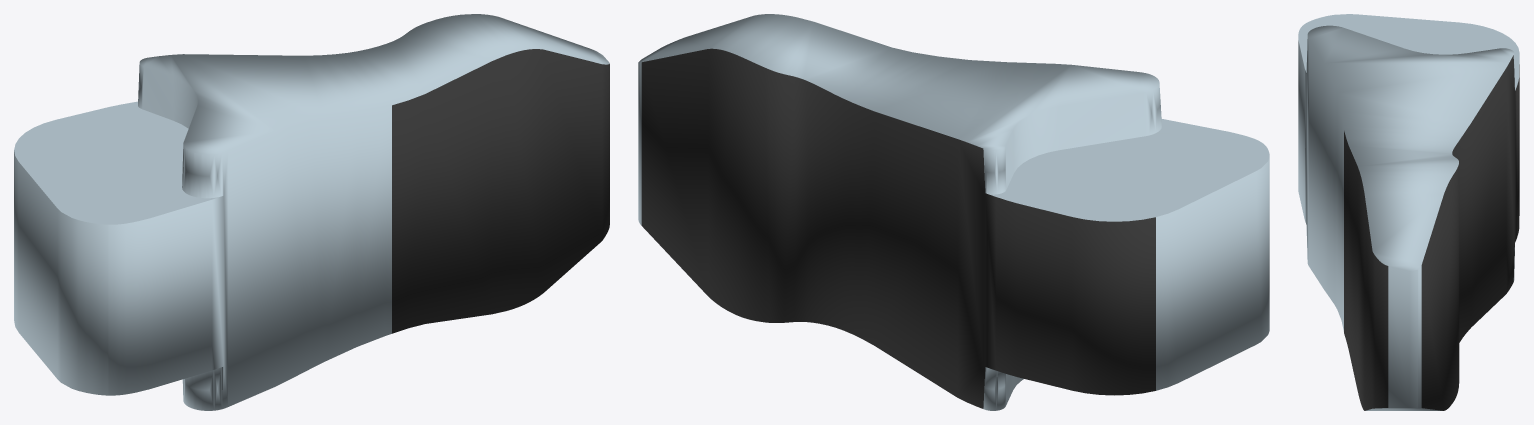
The model's file is finger_distal.dae.
3 views of the same model, side by side, from view 1: azimuth 30°, elevation 25°; view 2: azimuth 150°, elevation 25°; view 3: azimuth 270°, elevation 25° (orthographic). The views are drawn at different scales.
Parts seen in each view (by area): view 1: node.008; view 2: node.008; view 3: node.008.
Part boxes in pixels (left/top/right/bottom): node.008: left=14, top=14, right=609, bottom=410; node.008: left=638, top=14, right=1269, bottom=410; node.008: left=1298, top=14, right=1519, bottom=410.
Size of the model in its own units: 0.0529 by 0.0198 by 0.0225.
1 material, 1 textured.
